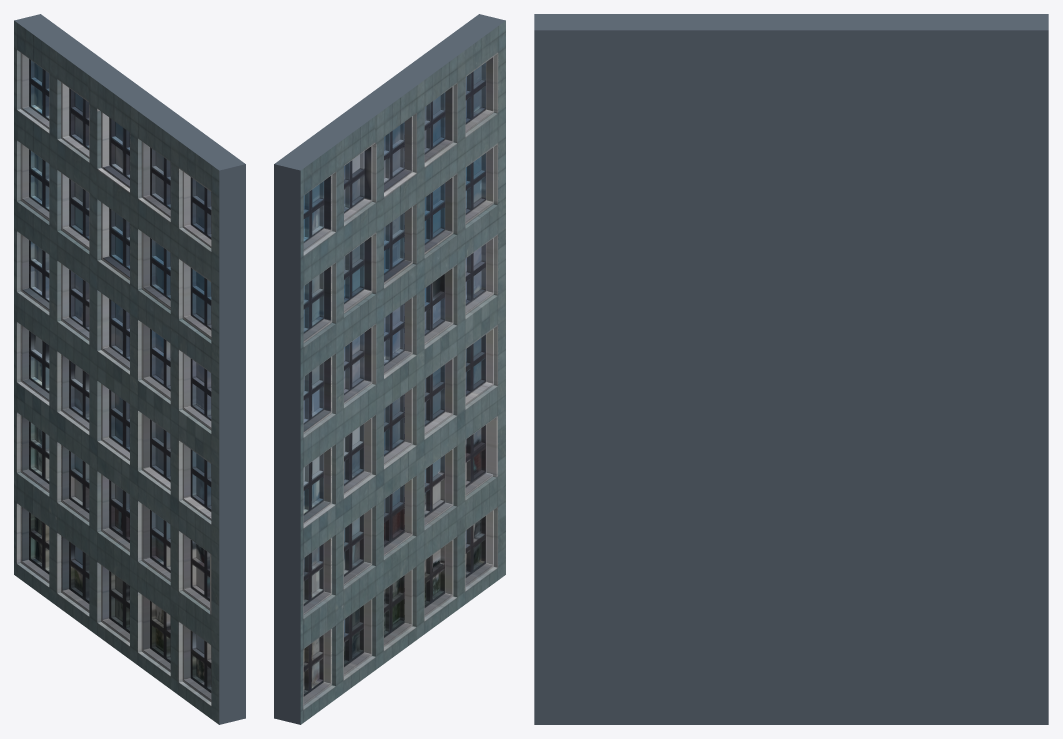
File: facade8.fbx
The picture shows the model from 3 angles, left to right: view 1: azimuth 30°, elevation 25°; view 2: azimuth 150°, elevation 25°; view 3: azimuth 270°, elevation 25°; orthographic projection. The views are drawn at different scales.
Visible parts, largest first — view 1: facade_8; view 2: facade_8; view 3: facade_8.
Part boxes in pixels (x1,y1,x2,y2): facade_8: [14, 14, 245, 724]; facade_8: [274, 14, 505, 724]; facade_8: [534, 14, 1048, 724].
Bounding box in the file's own units: 4.83 × 96.12 × 64.46.
Materials: 2 (2 with a texture image).
